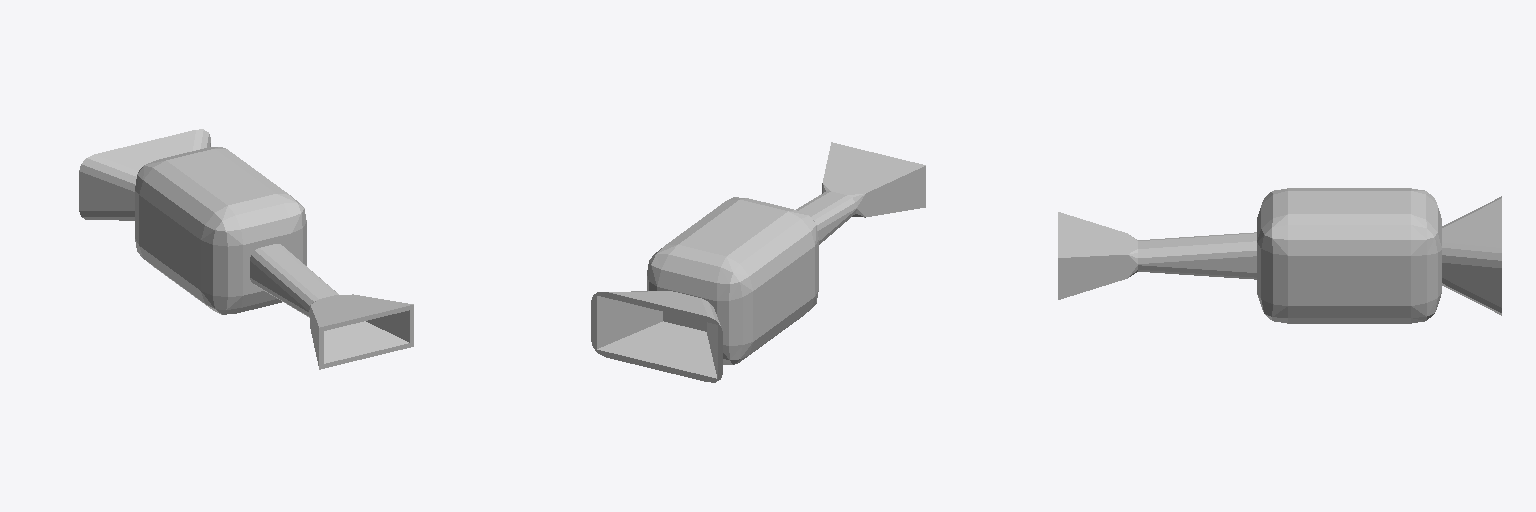
Rendered from Aspirateur.obj.
The picture shows the model from 3 angles: view 1: azimuth 30°, elevation 25°; view 2: azimuth 150°, elevation 25°; view 3: azimuth 270°, elevation 25°; orthographic projection.
Parts seen in each view (by area): view 1: Cube_Cube.002; view 2: Cube_Cube.002; view 3: Cube_Cube.002.
Part boxes in pixels (bbox=[...]): Cube_Cube.002: bbox=[79, 129, 413, 369]; Cube_Cube.002: bbox=[591, 142, 925, 382]; Cube_Cube.002: bbox=[1058, 188, 1501, 323].
Size of the model in its own units: 2.58 by 2 by 7.51.